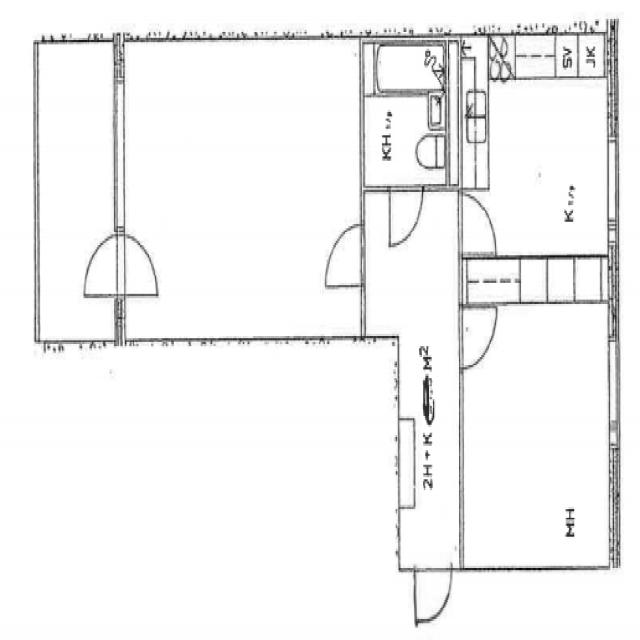door: (321, 217, 366, 294), (412, 557, 455, 629), (458, 188, 500, 260), (121, 230, 162, 300), (458, 302, 498, 372), (81, 229, 121, 299), (386, 182, 425, 252)
window: (108, 68, 130, 232), (604, 331, 624, 432)
zone: (123, 44, 360, 342), (458, 272, 619, 580), (464, 57, 616, 265), (36, 32, 117, 345), (362, 41, 448, 190), (449, 38, 487, 188), (412, 556, 455, 629), (566, 256, 615, 305)
